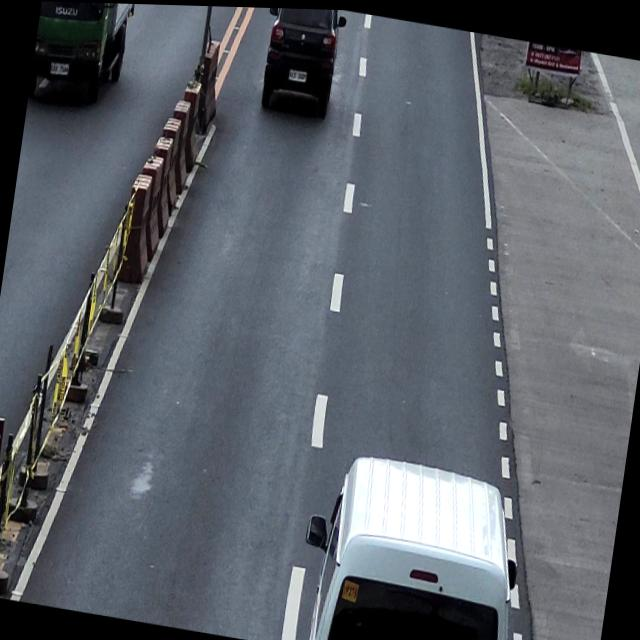Car: (281, 441, 533, 640), (255, 6, 348, 119)
License-Plate: (50, 62, 70, 77), (287, 67, 308, 81)
Truck: (28, 1, 138, 110)
